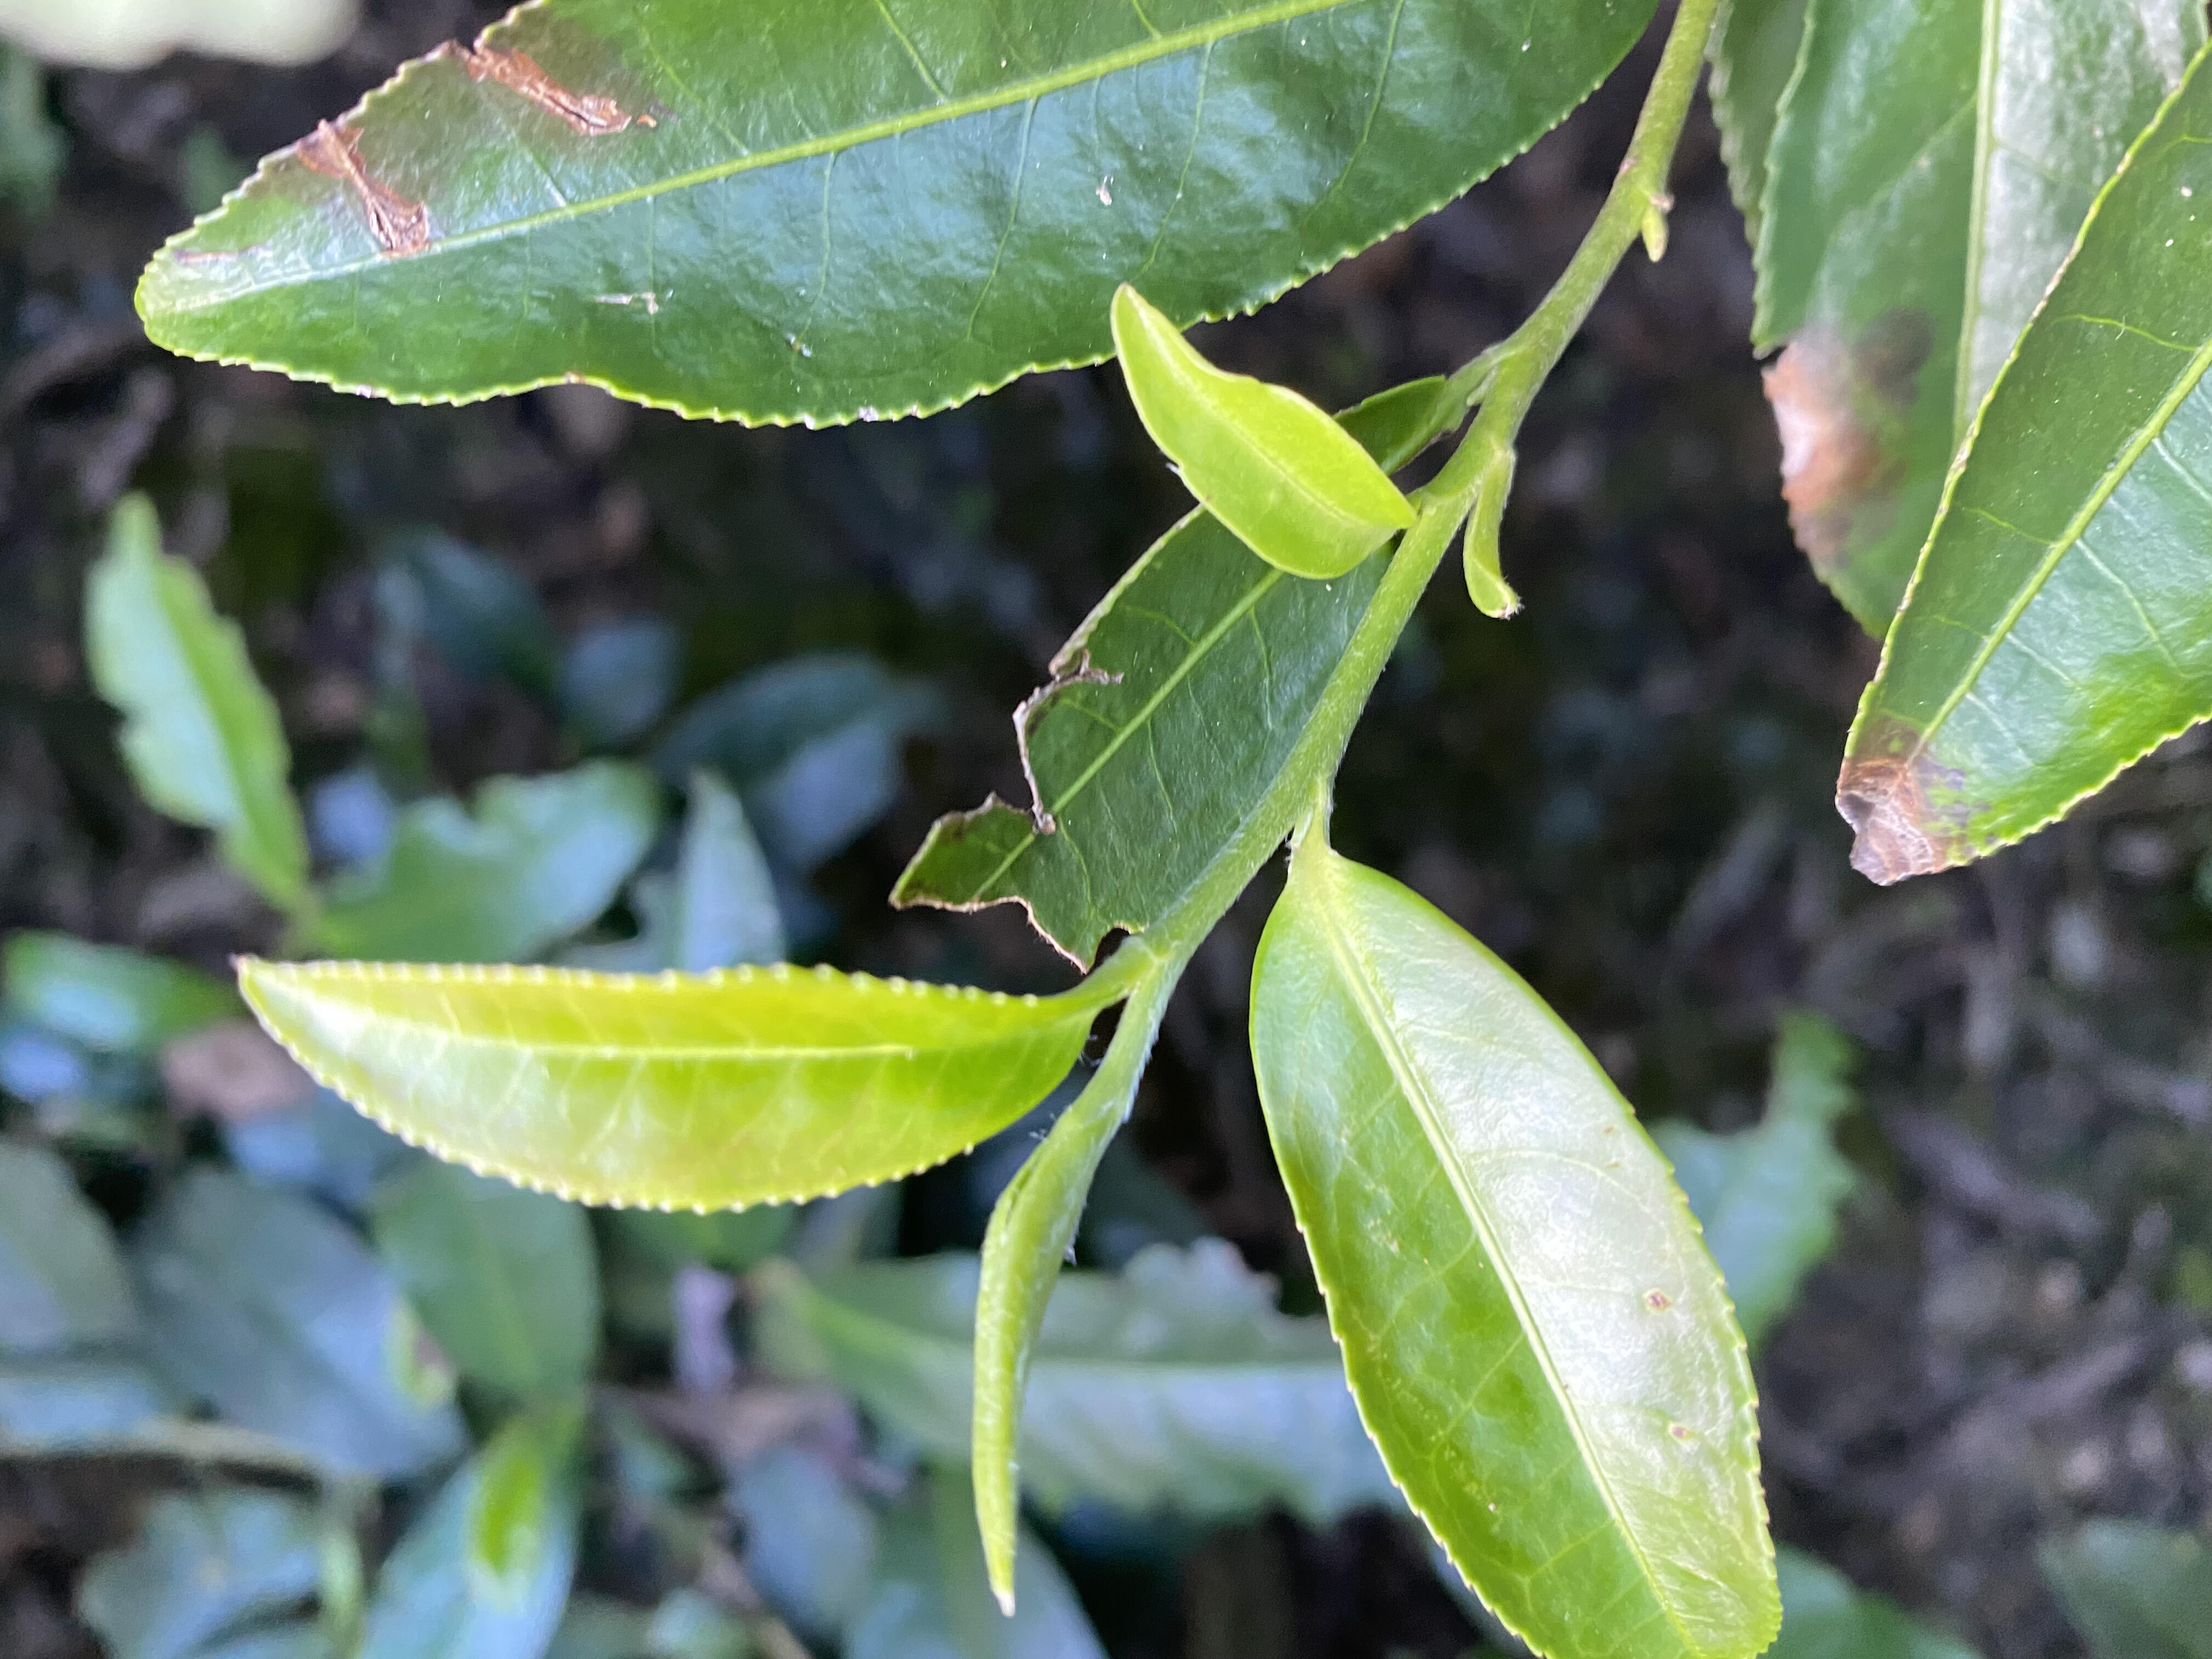chihuo_high: (887, 375, 1468, 972)
healthy: (233, 951, 1087, 1220)
tanju_high: (129, 2, 1665, 436), (1705, 3, 2209, 647), (1831, 42, 2209, 890)
tanju_low: (1251, 861, 1789, 1657)
